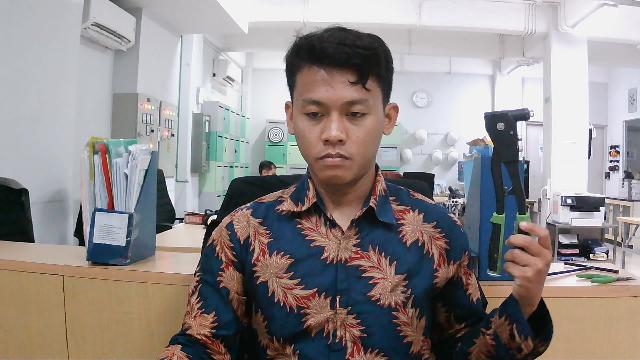tang_rivet: (475, 103, 557, 283)
